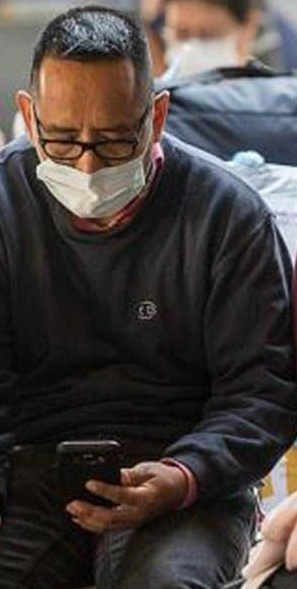with_mask: (12, 29, 167, 213), (155, 3, 265, 89)
